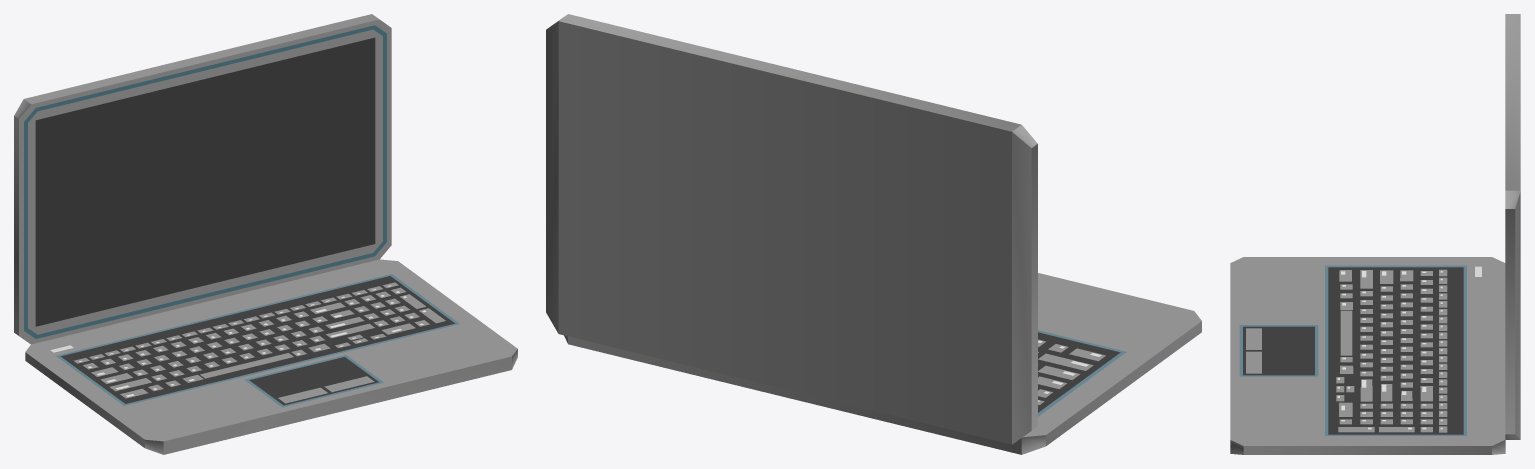
The model's file is electronics_011.glb.
3 views of the same model, side by side, from view 1: azimuth 30°, elevation 25°; view 2: azimuth 150°, elevation 25°; view 3: azimuth 270°, elevation 25° (orthographic). The views are drawn at different scales.
Parts seen in each view (by area): view 1: electronics_011; view 2: electronics_011; view 3: electronics_011.
Boxes of the visible parts, bbox=[...] form: electronics_011: bbox=[14, 14, 517, 454]; electronics_011: bbox=[546, 14, 1201, 454]; electronics_011: bbox=[1230, 14, 1520, 454].
Bounding box in the file's own units: 0.3699 × 0.2403 × 0.2404.
Materials: 1 (1 with a texture image).
